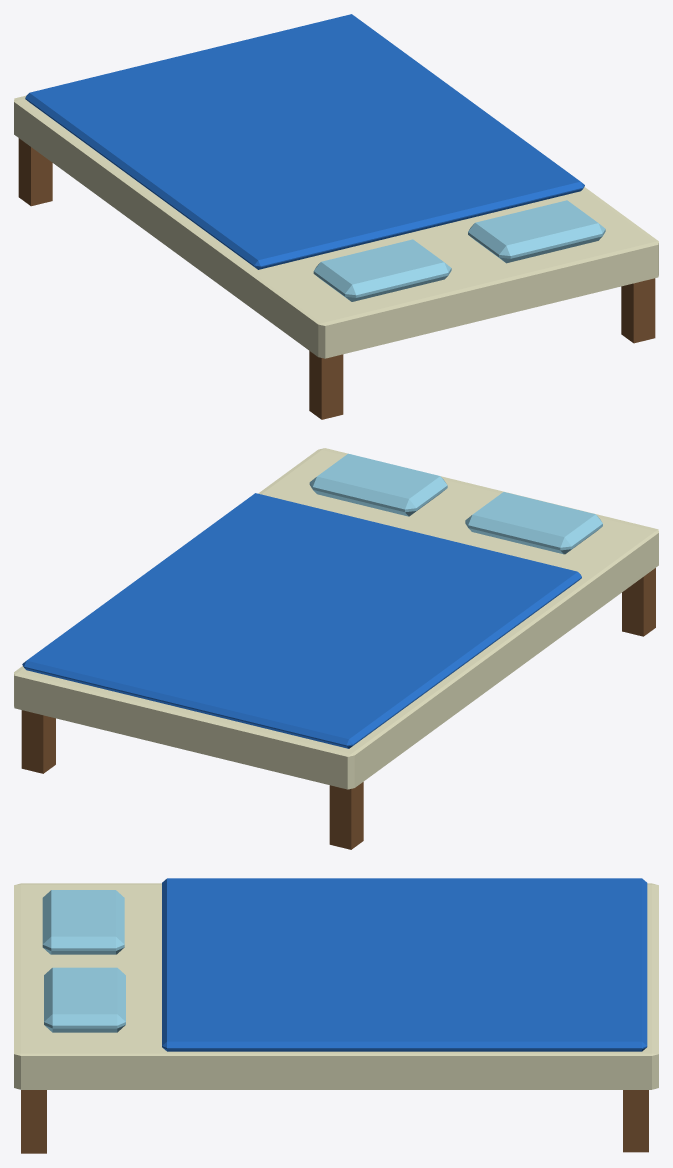
File: bed.fbx
3 views of the same model, one above another, from view 1: azimuth 30°, elevation 25°; view 2: azimuth 150°, elevation 25°; view 3: azimuth 270°, elevation 25° (orthographic). The views are drawn at different scales.
Parts seen in each view (by area): view 1: Cube.007, Cube, Cube.001, Cube.002, Cube.004, Cube.003, Cube.005; view 2: Cube.007, Cube, Cube.001, Cube.002, Cube.005, Cube.006, Cube.004; view 3: Cube.007, Cube, Cube.001, Cube.002, Cube.003, Cube.006.
Part boxes in pixels (x1=…): Cube.007: x1=25, y1=14, x2=584, y2=269; Cube: x1=14, y1=95, x2=658, y2=358; Cube.001: x1=468, y1=200, x2=605, y2=263; Cube.002: x1=313, y1=239, x2=451, y2=301; Cube.004: x1=309, y1=351, x2=343, y2=419; Cube.003: x1=621, y1=278, x2=655, y2=343; Cube.005: x1=18, y1=138, x2=52, y2=206; Cube.007: x1=22, y1=493, x2=581, y2=748; Cube: x1=14, y1=448, x2=658, y2=789; Cube.001: x1=309, y1=453, x2=447, y2=516; Cube.002: x1=465, y1=492, x2=602, y2=554; Cube.005: x1=329, y1=782, x2=363, y2=849; Cube.006: x1=21, y1=710, x2=55, y2=773; Cube.004: x1=622, y1=568, x2=655, y2=636; Cube.007: x1=162, y1=878, x2=647, y2=1051; Cube: x1=14, y1=883, x2=658, y2=1089; Cube.001: x1=44, y1=967, x2=125, y2=1032; Cube.002: x1=42, y1=890, x2=124, y2=954; Cube.003: x1=21, y1=1090, x2=46, y2=1153; Cube.006: x1=623, y1=1090, x2=648, y2=1152.
Size of the model in its own units: 973 by 311 by 1537.
